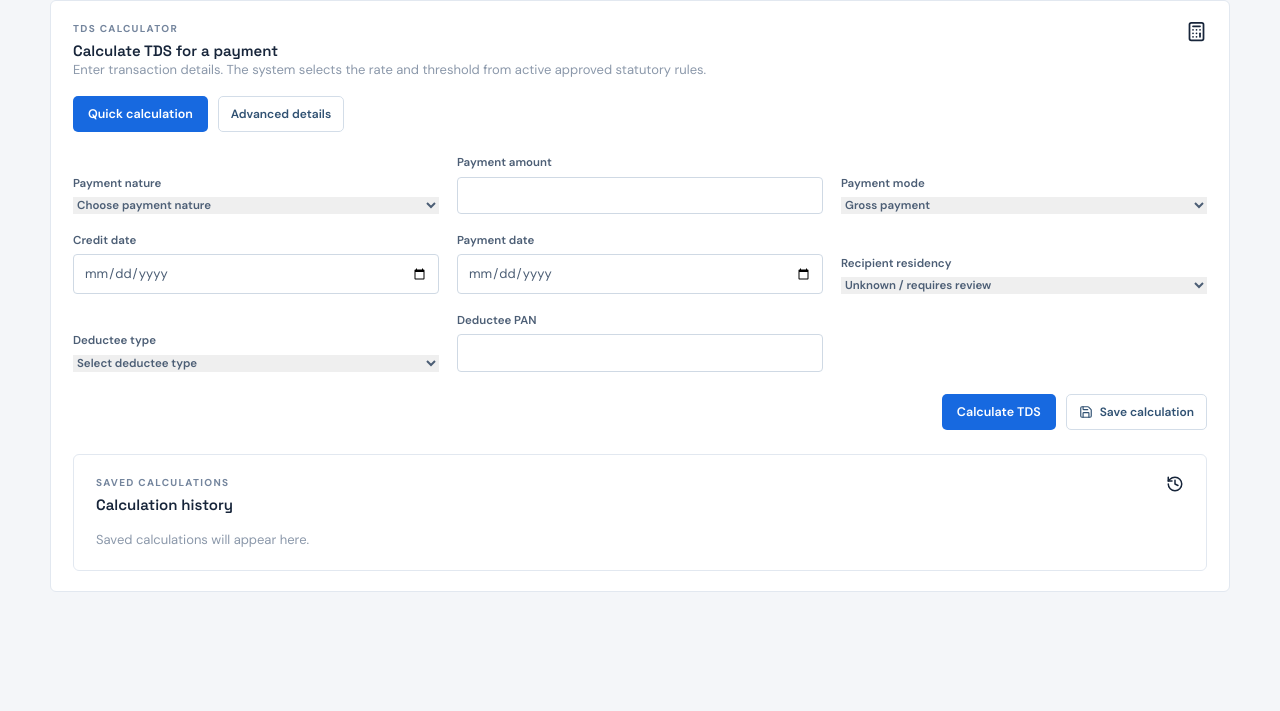
Test: TDS calculator workspace › renders the compact calculator and opens advanced details on demand
This screenshot has width=1280, height=711.
Click the button "Advanced details" at x=281, y=114, box left=218, top=96, right=344, bottom=132
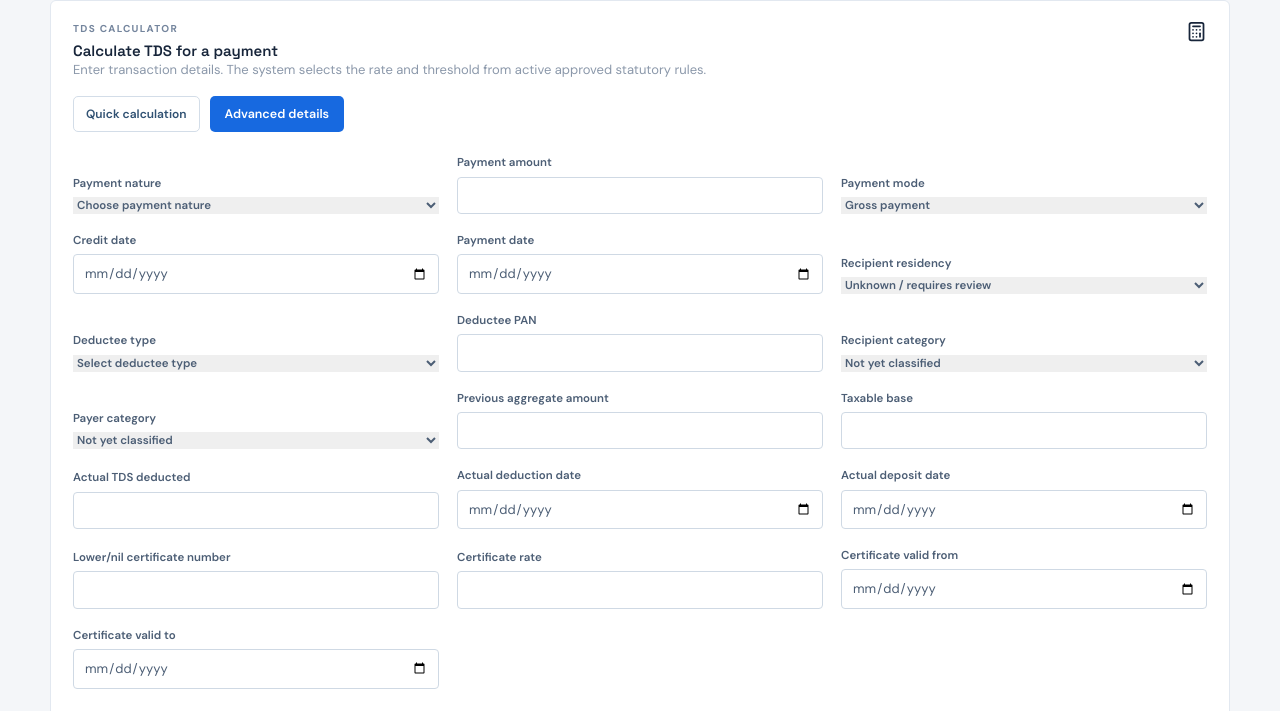
Check: the text "Previous aggregate amount" is shown, box left=457, top=390, right=823, bottom=449
Check: the text "Lower/nil certificate number" is shown, box left=73, top=549, right=439, bottom=609
